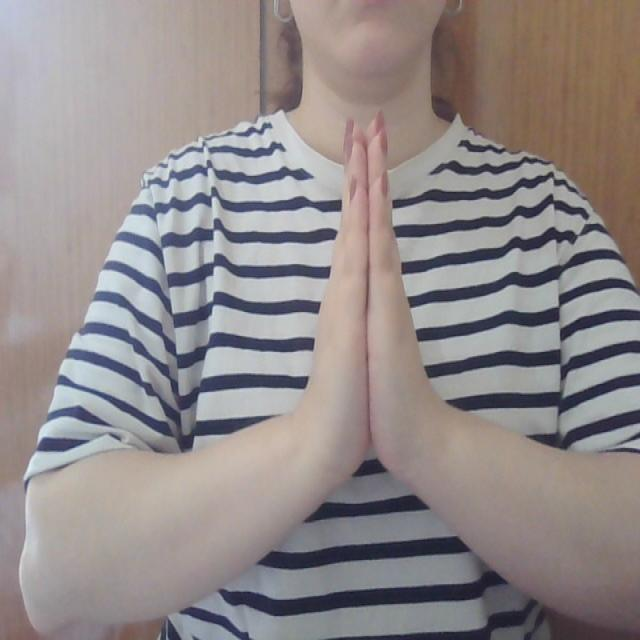Ozur-Dilemek: (286, 100, 450, 522)
